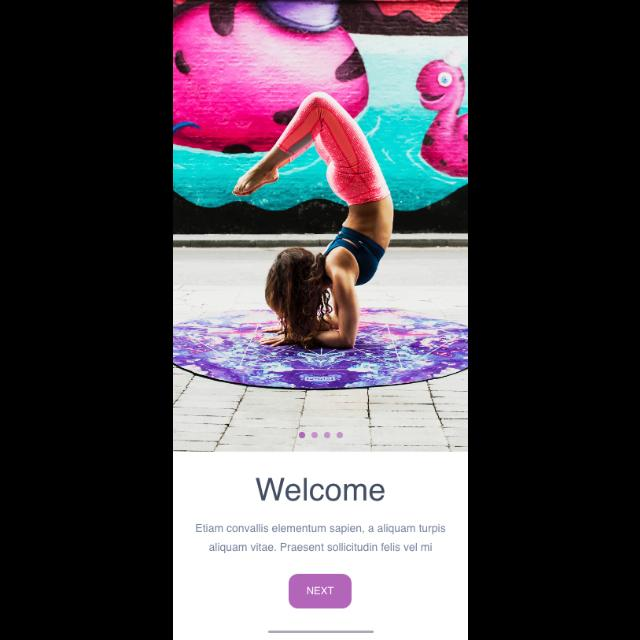image: (173, 1, 467, 452)
pageindicator: (299, 432, 343, 438)
text: (195, 524, 445, 554), (255, 476, 385, 502)
textbutton: (288, 574, 352, 608)
